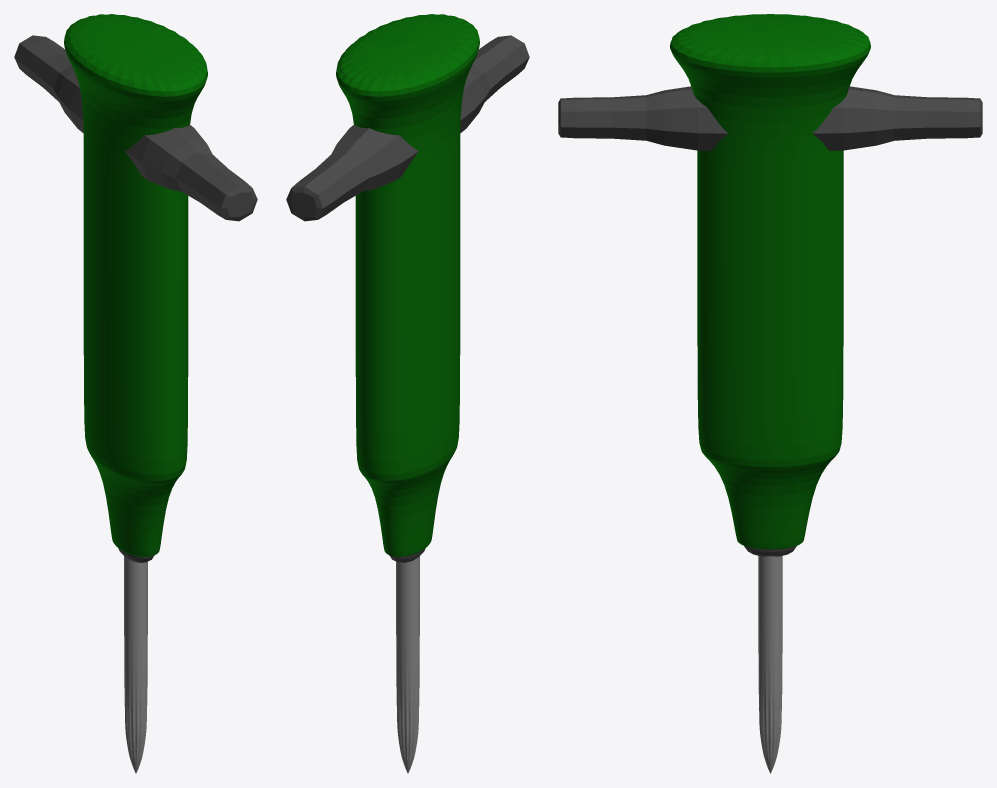
The model's file is jackhammer.fbx.
3 views of the same model, side by side, from view 1: azimuth 30°, elevation 25°; view 2: azimuth 150°, elevation 25°; view 3: azimuth 270°, elevation 25° (orthographic).
Visible parts, largest first — view 1: Cylinder, Cube.001, Circle; view 2: Cylinder, Cube.001, Circle; view 3: Cylinder, Cube.001, Circle.
Boxes of the visible parts, x1,y1,x2,y2 form: Cylinder: (64,14,207,556); Cube.001: (14,35,257,221); Circle: (124,556,147,773); Cylinder: (336,14,479,556); Cube.001: (286,35,529,221); Circle: (396,556,419,773); Cylinder: (670,14,870,549); Cube.001: (558,86,982,150); Circle: (758,556,782,773).
Size of the model in its own units: 1006 by 6722 by 3483.
